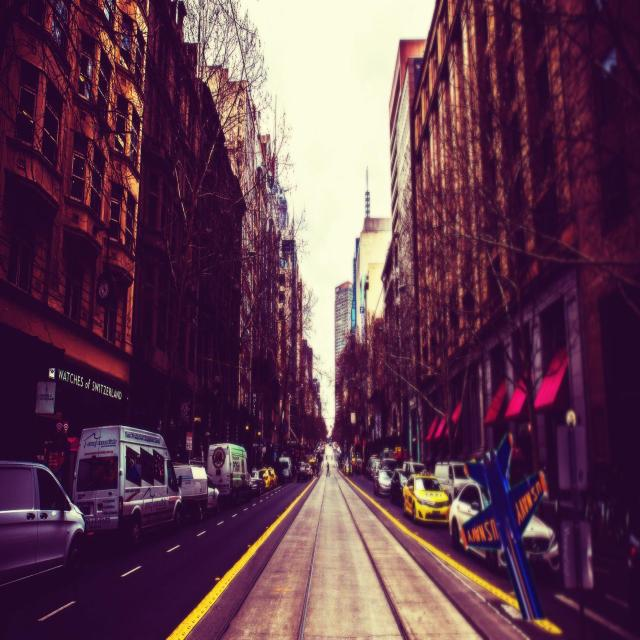airplane: (460, 432, 548, 620)
